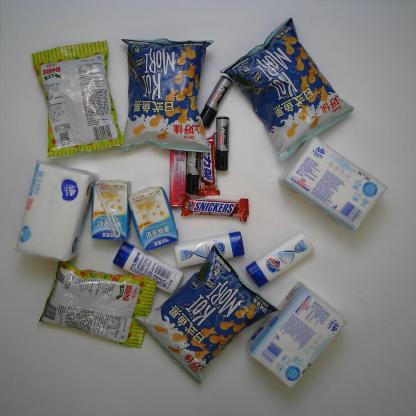Candy: (169, 148, 187, 208)
Chocolate: (180, 195, 250, 222), (197, 131, 221, 198)
Milk: (128, 185, 180, 252), (91, 178, 132, 241)
Personal Hygiene: (245, 230, 316, 288), (112, 240, 184, 294), (173, 230, 245, 270)
Puffed Food: (132, 242, 280, 384), (219, 17, 355, 163), (30, 39, 124, 159), (117, 36, 212, 154), (36, 260, 158, 350)
Stationery: (200, 75, 233, 128), (215, 116, 230, 172), (186, 151, 201, 195)
Tissue: (246, 280, 347, 390), (278, 135, 388, 231), (14, 159, 100, 262)
